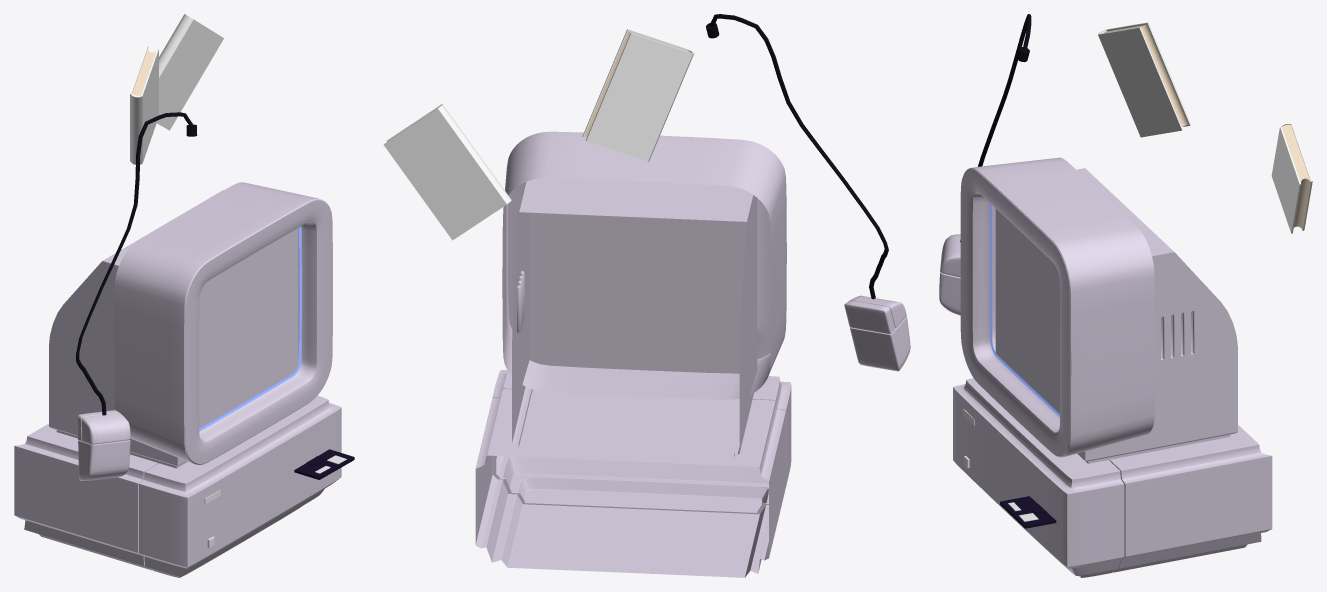
File: geometries.glb
The picture shows the model from 3 angles, left to right: view 1: azimuth 30°, elevation 25°; view 2: azimuth 150°, elevation 25°; view 3: azimuth 270°, elevation 25°; orthographic projection. The views are drawn at different scales.
Visible parts, largest first — view 1: Cube.290, Cube.228, Cube.289, Cube.236, Cube.223, Cube.235, Cylinder; view 2: Cube.228, Cube.289, Cube.290, Cube.236, Cube.235, Cube.223, Cylinder; view 3: Cube.290, Cube.228, Cube.289, Cube.235, Cube.236, Cube.223, Cylinder.
Boxes of the visible parts, x1=… form: Cube.290: x1=114, y1=182, x2=332, y2=464; Cube.228: x1=14, y1=395, x2=354, y2=577; Cube.289: x1=49, y1=190, x2=298, y2=468; Cube.236: x1=157, y1=14, x2=223, y2=130; Cube.223: x1=77, y1=410, x2=130, y2=480; Cube.235: x1=130, y1=46, x2=158, y2=164; Cylinder: x1=76, y1=112, x2=197, y2=415; Cube.228: x1=475, y1=370, x2=791, y2=577; Cube.289: x1=512, y1=178, x2=757, y2=456; Cube.290: x1=502, y1=131, x2=786, y2=399; Cube.236: x1=383, y1=104, x2=511, y2=240; Cube.235: x1=582, y1=29, x2=694, y2=161; Cube.223: x1=844, y1=295, x2=910, y2=371; Cylinder: x1=706, y1=14, x2=888, y2=299; Cube.290: x1=960, y1=157, x2=1154, y2=457; Cube.228: x1=953, y1=378, x2=1272, y2=577; Cube.289: x1=995, y1=168, x2=1237, y2=463; Cube.235: x1=1098, y1=22, x2=1191, y2=137; Cube.236: x1=1271, y1=122, x2=1312, y2=233; Cube.223: x1=939, y1=234, x2=960, y2=315; Cylinder: x1=960, y1=14, x2=1031, y2=241.
Bounding box in the file's own units: 0.5856 × 0.8371 × 0.5768.
